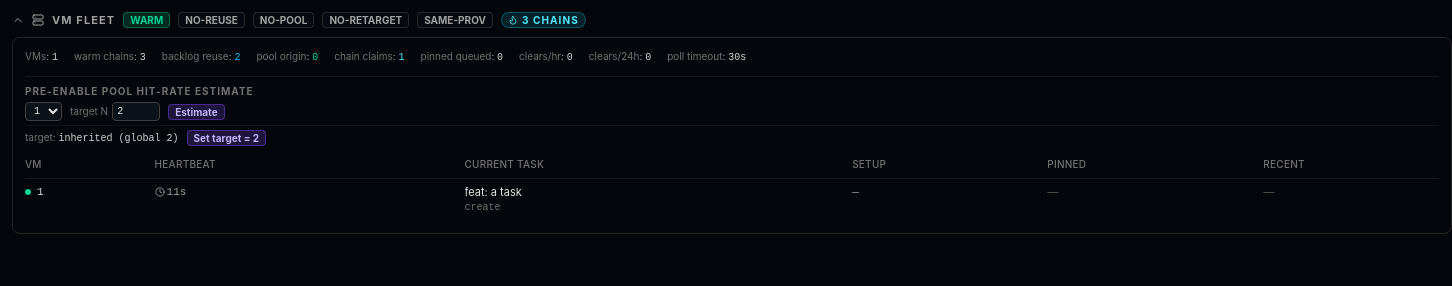
Scenario: WarmVmPanel — pre-enable pool hit-rate estimate › runs the estimate with the chosen target size and renders the hit rate
The estimate control renders once data (with a project-bearing VM) loads.
Replace the text in the number field with test id "pool-estimate-target" with "5": (136, 112) [112, 102, 160, 122]
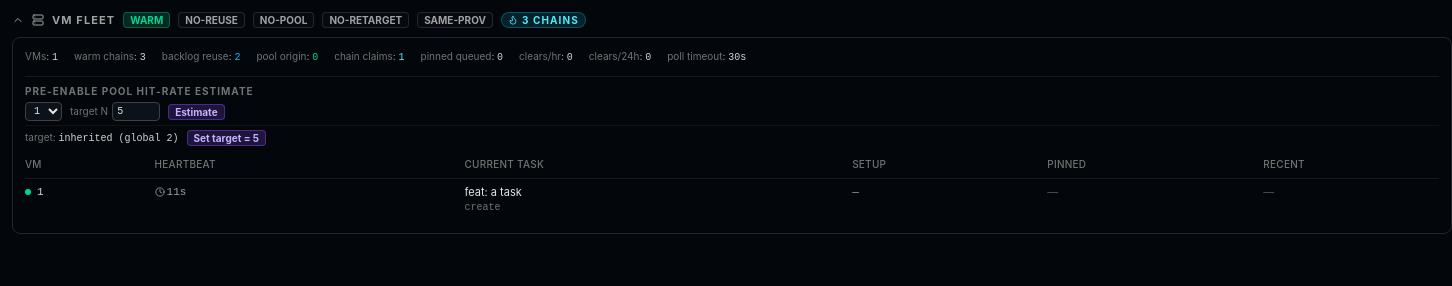
Click the button with test id "pool-estimate-run": (196, 112) [168, 104, 225, 120]
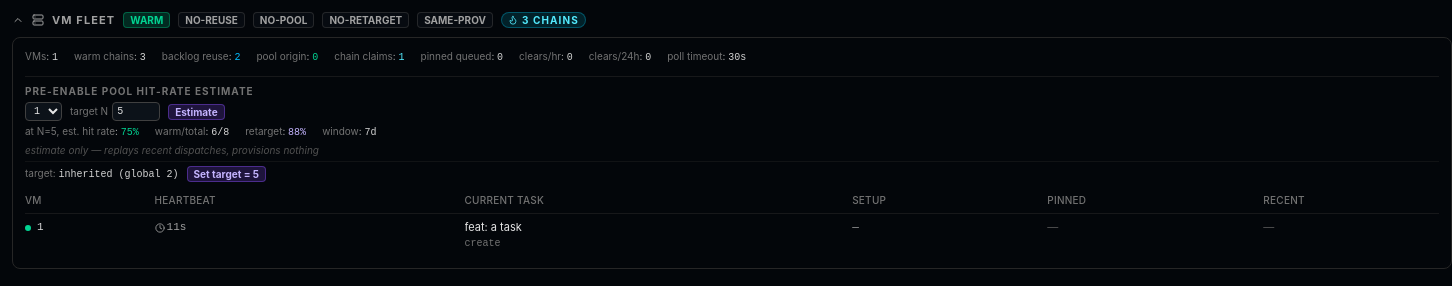
Expected: the text with test id "pool-estimate-hit-rate" reads "75%", [121, 128, 139, 138]
Expected: the element with test id "pool-estimate-result" shows "6/8", [25, 126, 376, 156]
